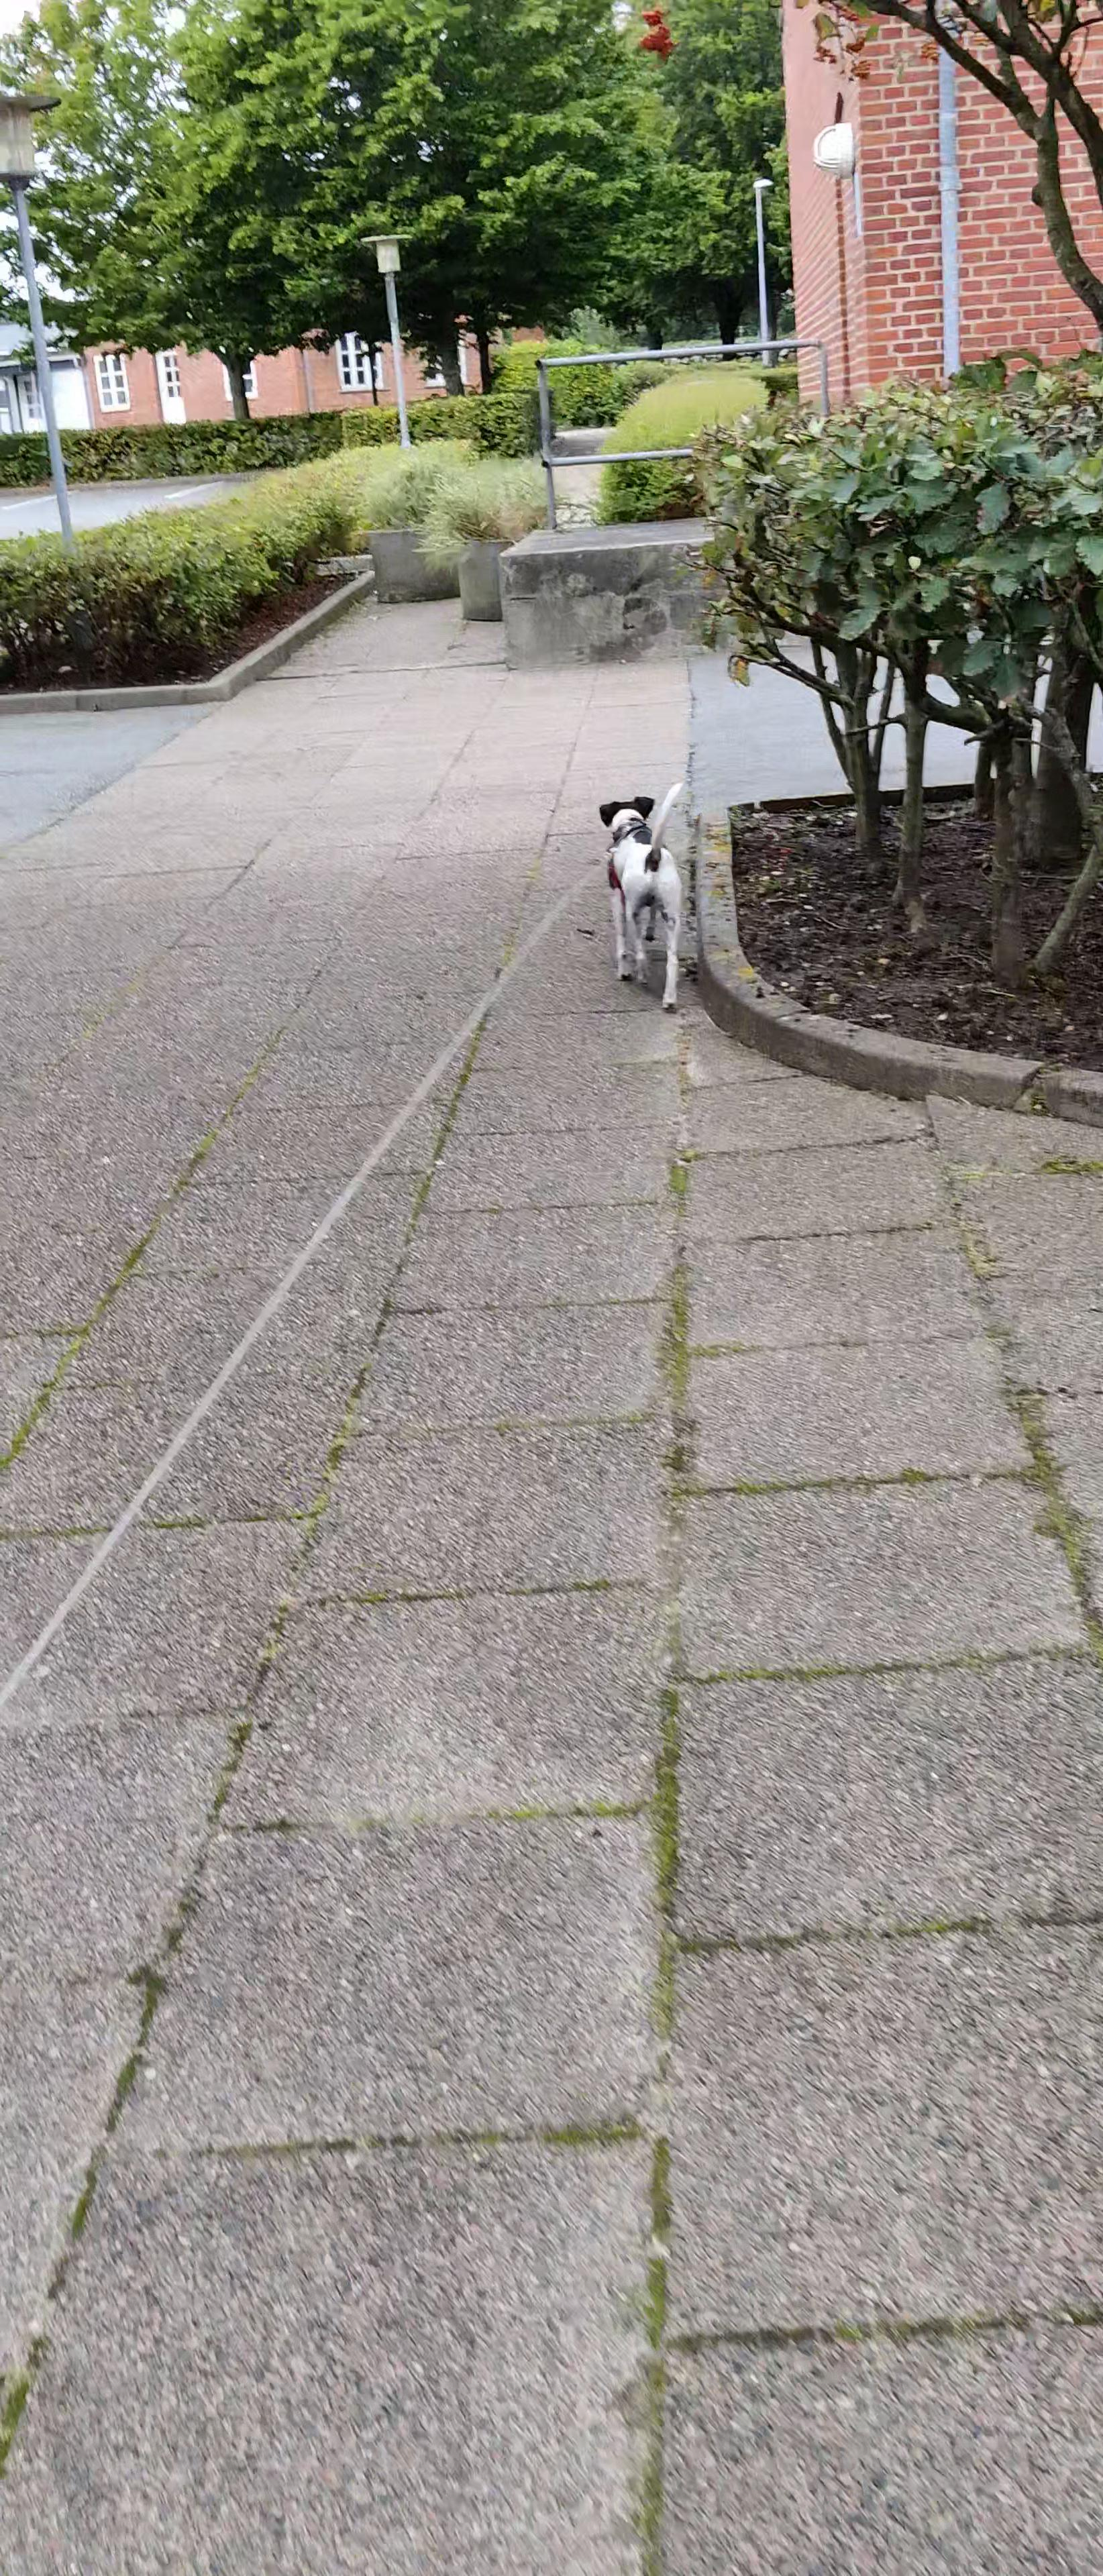Dog: (592, 777, 689, 1015)
